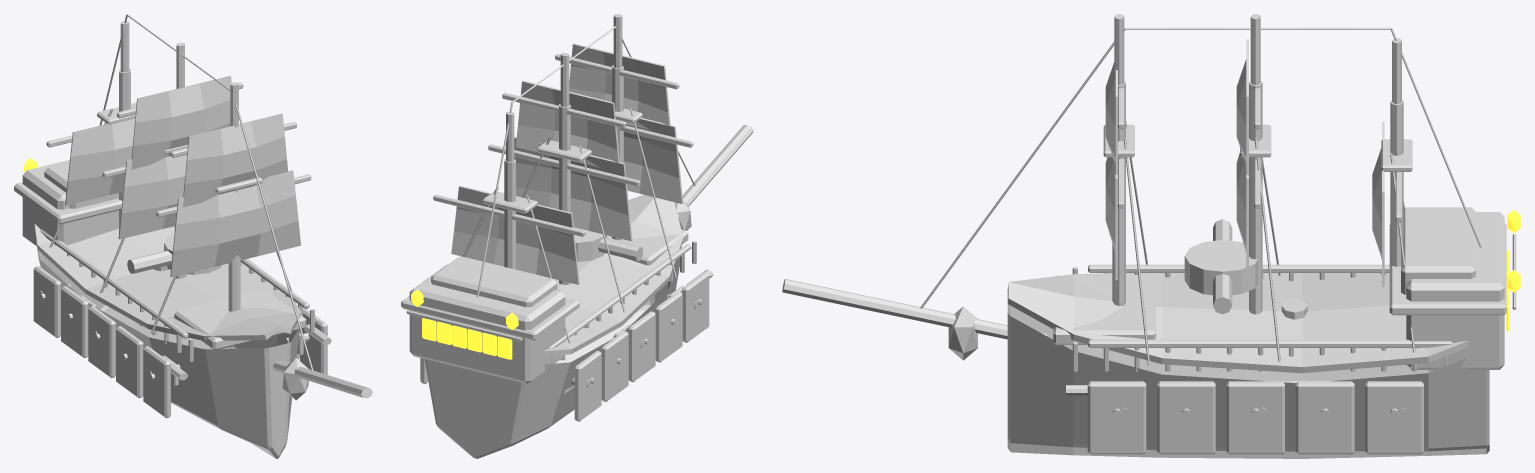
File: enemy_ironclad_v04.fbx
3 views of the same model, side by side, from view 1: azimuth 30°, elevation 25°; view 2: azimuth 150°, elevation 25°; view 3: azimuth 270°, elevation 25° (orthographic). The views are drawn at different scales.
Visible parts, largest first — view 1: Enemy_Corsair_Hull, Enemy_Corsair_Deck, Sail_1_1, Sail_1_2, Sail_2_2, Sail_3_1, Sail_2_1, Stern_GreatCabin, Forecastle_Deck, Ironclad_Armor_Plate_1_4, Ironclad_Armor_Plate_1_2, Ironclad_Armor_Plate_1_1 (+16 smaller); view 2: Enemy_Corsair_Hull, Stern_GreatCabin, Enemy_Corsair_Deck, Sail_3_1, Sail_2_1, Sail_2_2, Sail_1_2, Upper_Stern_Castle, Sail_1_1, Stern_Quarterdeck, Ironclad_Armor_Plate_1_2, Ironclad_Armor_Plate_1_4 (+25 smaller); view 3: Enemy_Corsair_Hull, Enemy_Corsair_Deck, Stern_GreatCabin, Upper_Stern_Castle, Ironclad_Armor_Plate_-1_2, Ironclad_Armor_Plate_-1_4, Ironclad_Armor_Plate_-1_5, Ironclad_Armor_Plate_-1_1, Ironclad_Armor_Plate_-1_3, Forecastle_Deck, Ironclad_Deck_Turret, Tier_4_Port_TopRail (+16 smaller).
Part boxes in pixels (x1,y1,x2,y2): Enemy_Corsair_Hull: [36, 242, 299, 458]; Enemy_Corsair_Deck: [34, 224, 301, 340]; Sail_1_1: [170, 170, 300, 277]; Sail_1_2: [183, 113, 288, 207]; Sail_2_2: [131, 76, 231, 169]; Sail_3_1: [65, 118, 135, 205]; Sail_2_1: [118, 154, 186, 239]; Stern_GreatCabin: [22, 160, 118, 245]; Forecastle_Deck: [174, 289, 306, 350]; Ironclad_Armor_Plate_1_4: [116, 326, 143, 397]; Ironclad_Armor_Plate_1_2: [61, 286, 88, 357]; Ironclad_Armor_Plate_1_1: [33, 266, 61, 337]; Enemy_Corsair_Hull: [424, 247, 681, 458]; Stern_GreatCabin: [409, 264, 565, 383]; Enemy_Corsair_Deck: [516, 194, 683, 356]; Sail_3_1: [451, 185, 579, 284]; Sail_2_1: [514, 136, 632, 241]; Sail_2_2: [516, 80, 619, 167]; Sail_1_2: [569, 43, 670, 130]; Upper_Stern_Castle: [431, 256, 557, 307]; Sail_1_1: [624, 118, 683, 203]; Stern_Quarterdeck: [401, 296, 579, 340]; Ironclad_Armor_Plate_1_2: [601, 331, 628, 401]; Ironclad_Armor_Plate_1_4: [655, 291, 682, 362]; Enemy_Corsair_Hull: [1007, 304, 1489, 458]; Enemy_Corsair_Deck: [1007, 273, 1468, 373]; Stern_GreatCabin: [1406, 212, 1504, 369]; Upper_Stern_Castle: [1401, 207, 1475, 294]; Ironclad_Armor_Plate_-1_2: [1295, 381, 1354, 454]; Ironclad_Armor_Plate_-1_4: [1157, 381, 1215, 454]; Ironclad_Armor_Plate_-1_5: [1087, 381, 1146, 454]; Ironclad_Armor_Plate_-1_1: [1365, 381, 1423, 454]; Ironclad_Armor_Plate_-1_3: [1226, 381, 1284, 454]; Forecastle_Deck: [1053, 275, 1155, 344]; Ironclad_Deck_Turret: [1184, 240, 1258, 295]; Tier_4_Port_TopRail: [1088, 339, 1452, 347].
Bounding box in the file's own units: 1.64 × 3.23 × 4.9.
